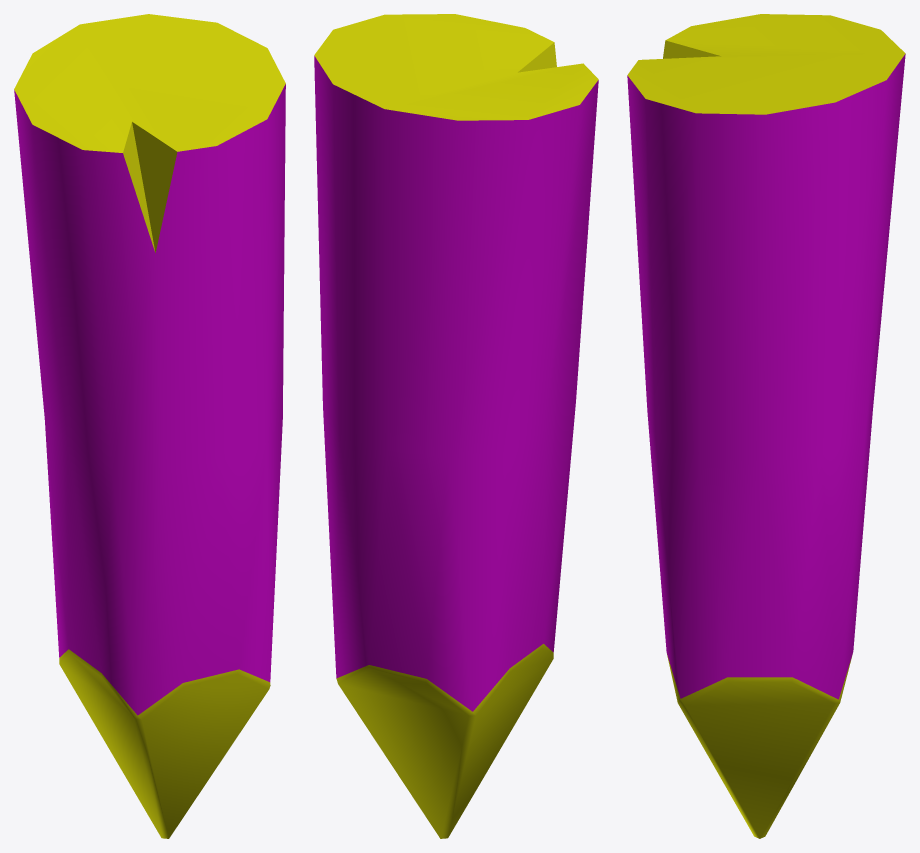
The model's file is F_LogFence_Pile.fbx.
3 views of the same model, side by side, from view 1: azimuth 30°, elevation 25°; view 2: azimuth 150°, elevation 25°; view 3: azimuth 270°, elevation 25° (orthographic). The views are drawn at different scales.
Parts seen in each view (by area): view 1: Cylinder036; view 2: Cylinder036; view 3: Cylinder036.
Boxes of the visible parts, x1=… form: Cylinder036: x1=14, y1=14, x2=285, y2=838; Cylinder036: x1=314, y1=14, x2=598, y2=838; Cylinder036: x1=627, y1=14, x2=905, y2=838.
Size of the model in its own units: 28.48 by 87.82 by 28.44.
